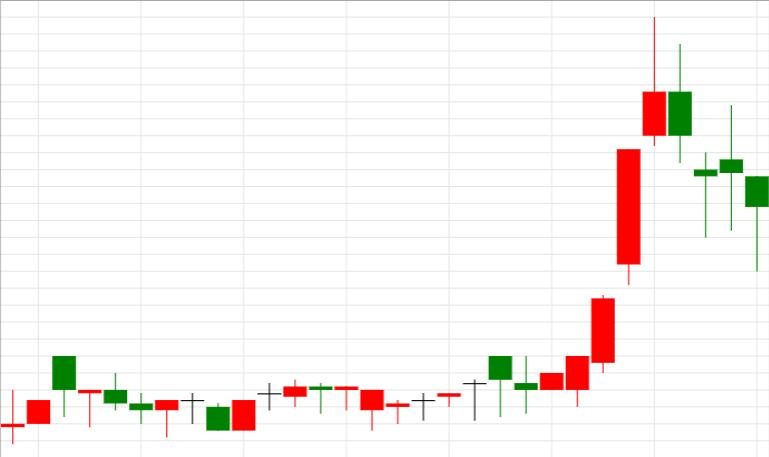shooting_star_fall: (539, 17, 666, 408)
